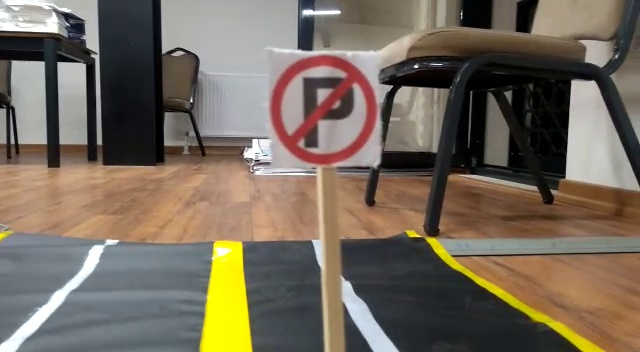park_yapilmaz: (267, 47, 384, 164)
